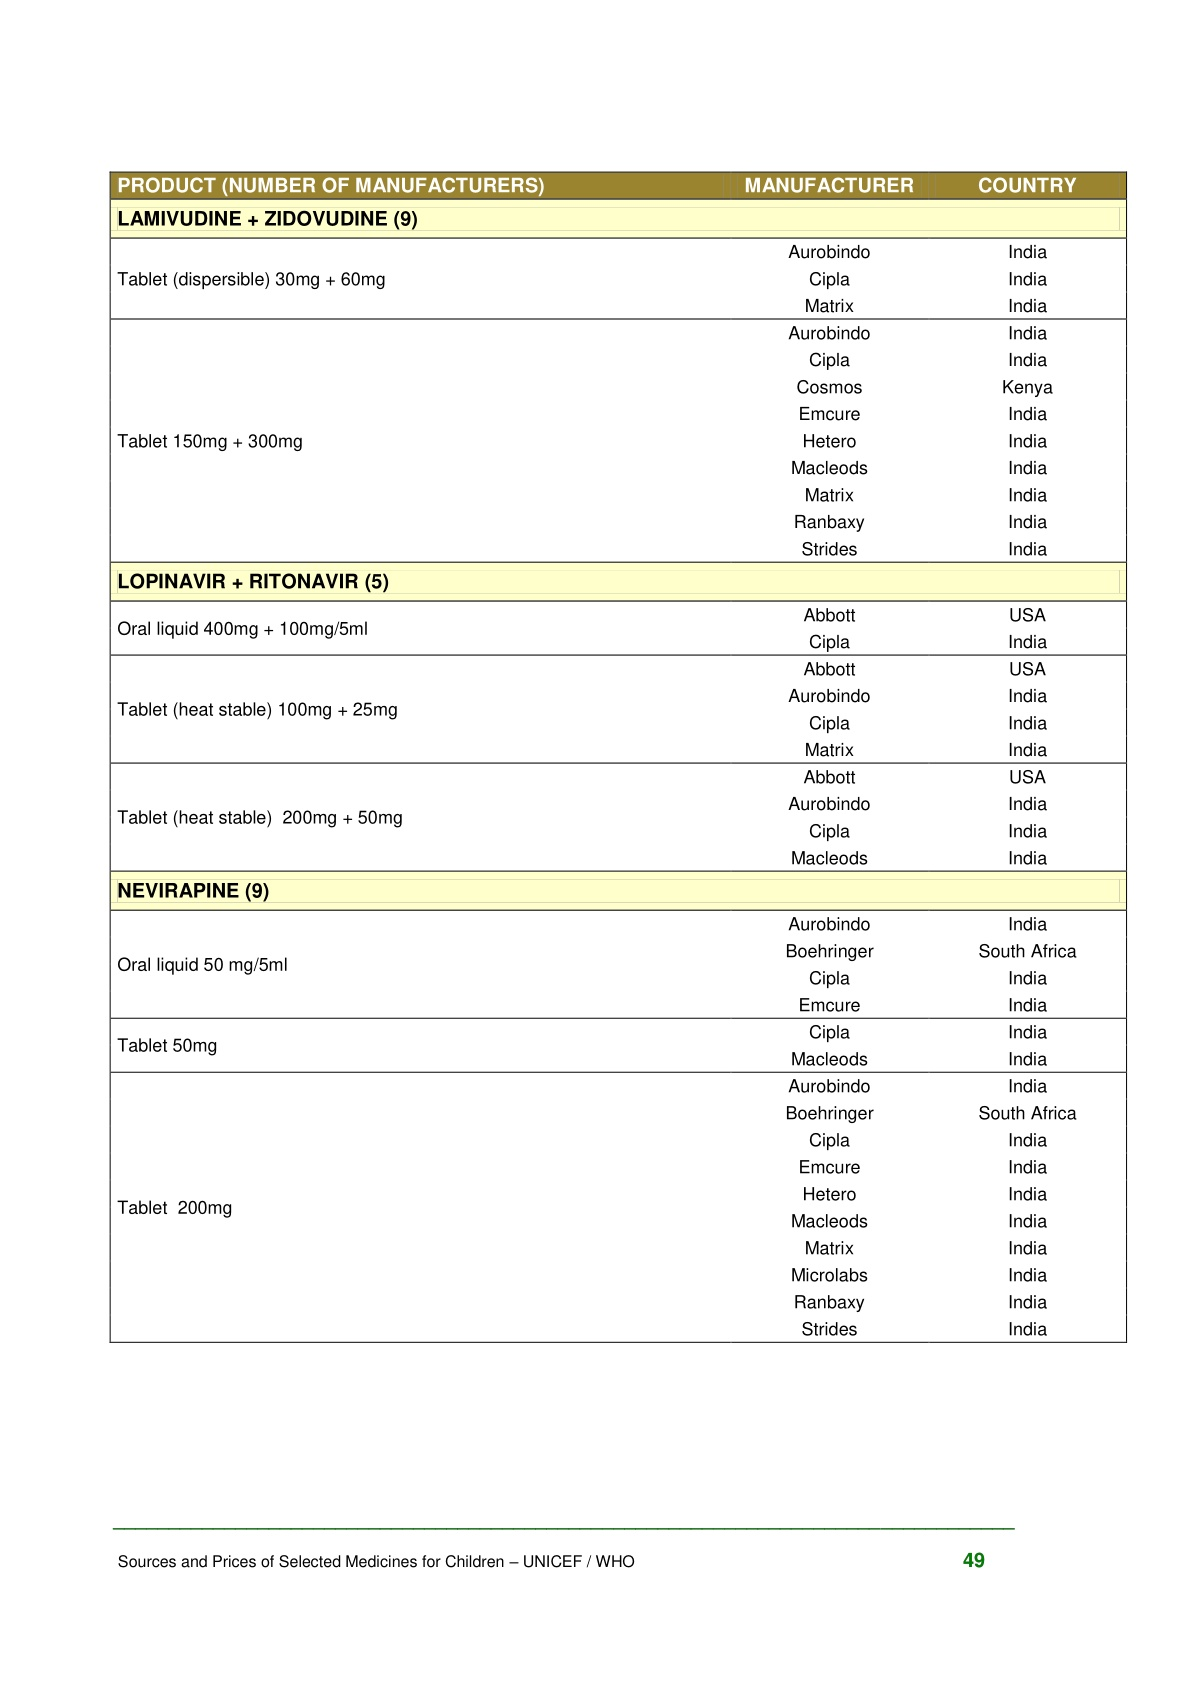partial_lined_merged_cells: (107, 171, 1129, 1345)
